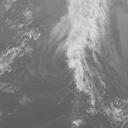cyclone: (54, 23, 105, 82)
